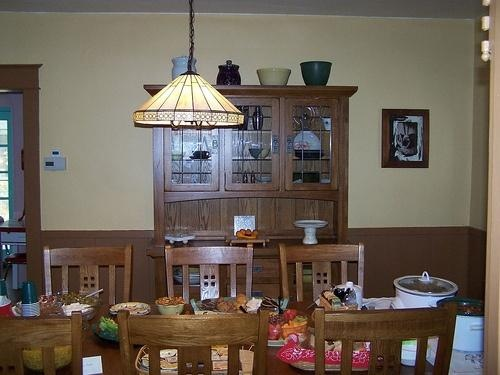chair: (114, 308, 275, 374), (309, 306, 462, 375), (39, 243, 136, 311), (157, 245, 261, 306), (1, 307, 87, 375), (277, 241, 367, 303)
